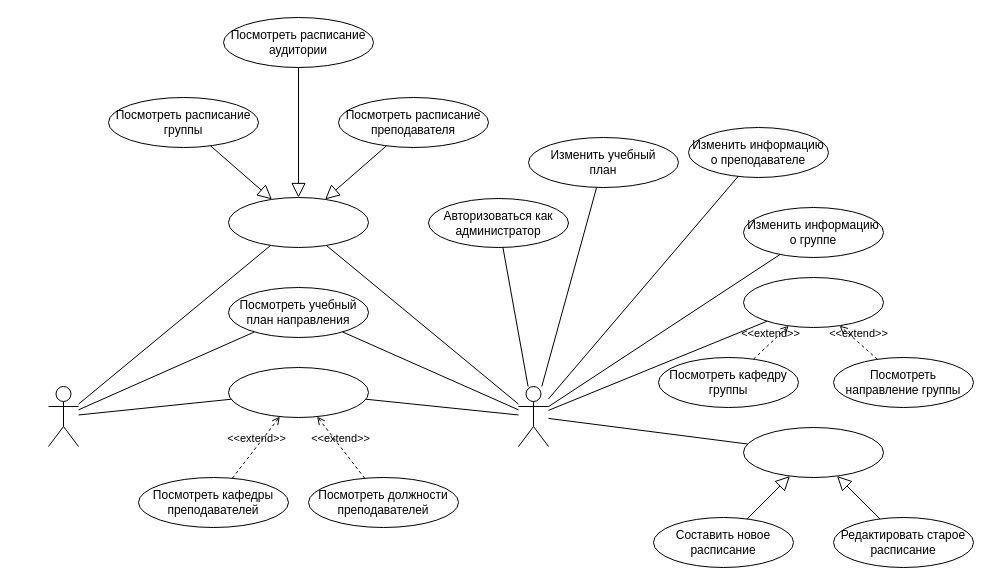
Image size: 991x585. Some labels were removed from this diagram. Each missing label, with the box of its shape:
Администратор: (518, 386, 548, 446)
Изменить расписание: (742, 426, 884, 478)
Пользователь без авторизации: (48, 386, 78, 446)
Посмотреть расписание: (228, 196, 368, 248)
Посмотреть список групп: (742, 276, 884, 328)
Посмотреть список преподавателей: (228, 366, 368, 418)
